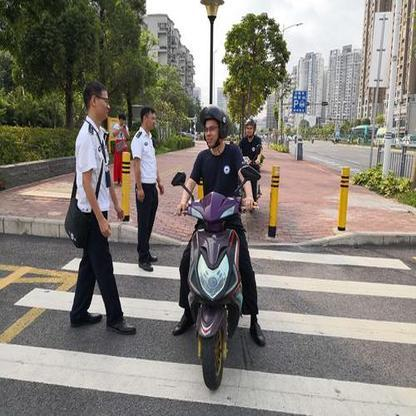target: (171, 104, 268, 392)
